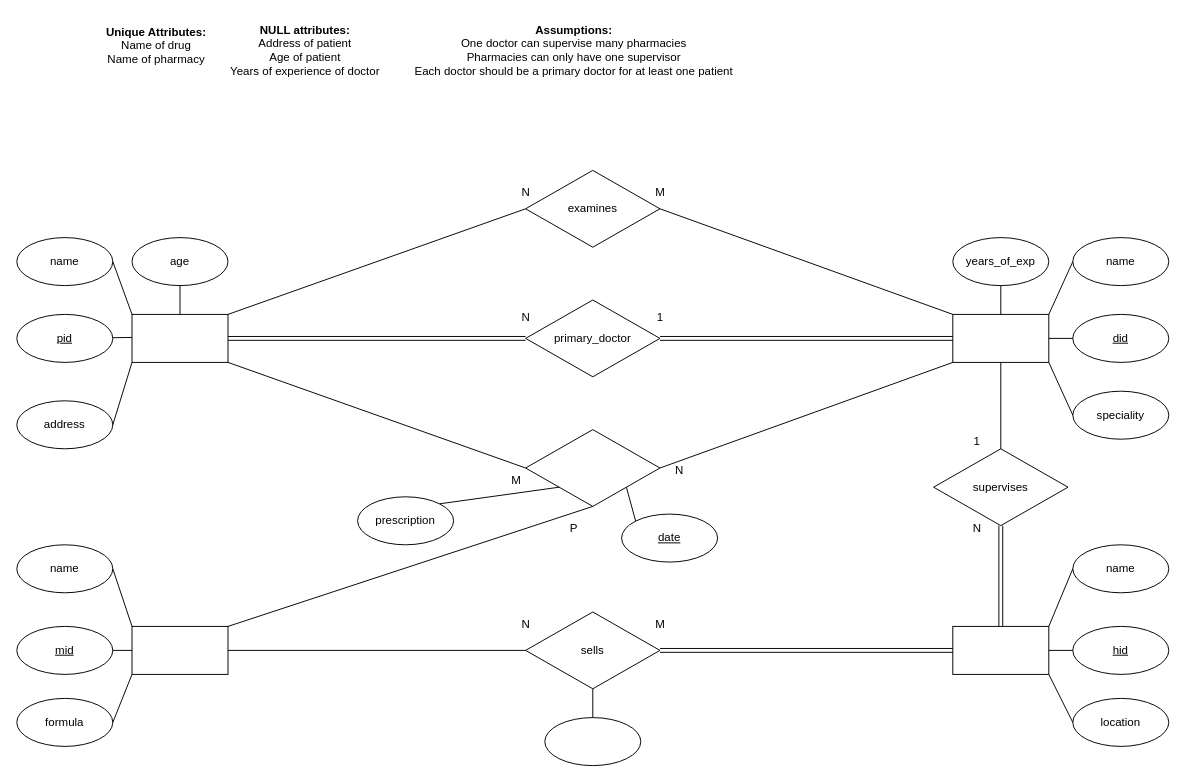
Some shapes in this 1186 by 782 pixel diagram are drawn without their labels. Here are the shapes that lost their labels. From the top down, the centre of each, then its label:
the point at 179,337: Patient
the point at 1000,337: Doctor
the point at 592,467: prescribes
the point at 179,649: Medicine
the point at 1000,649: Pharmacy
the point at 592,741: price
